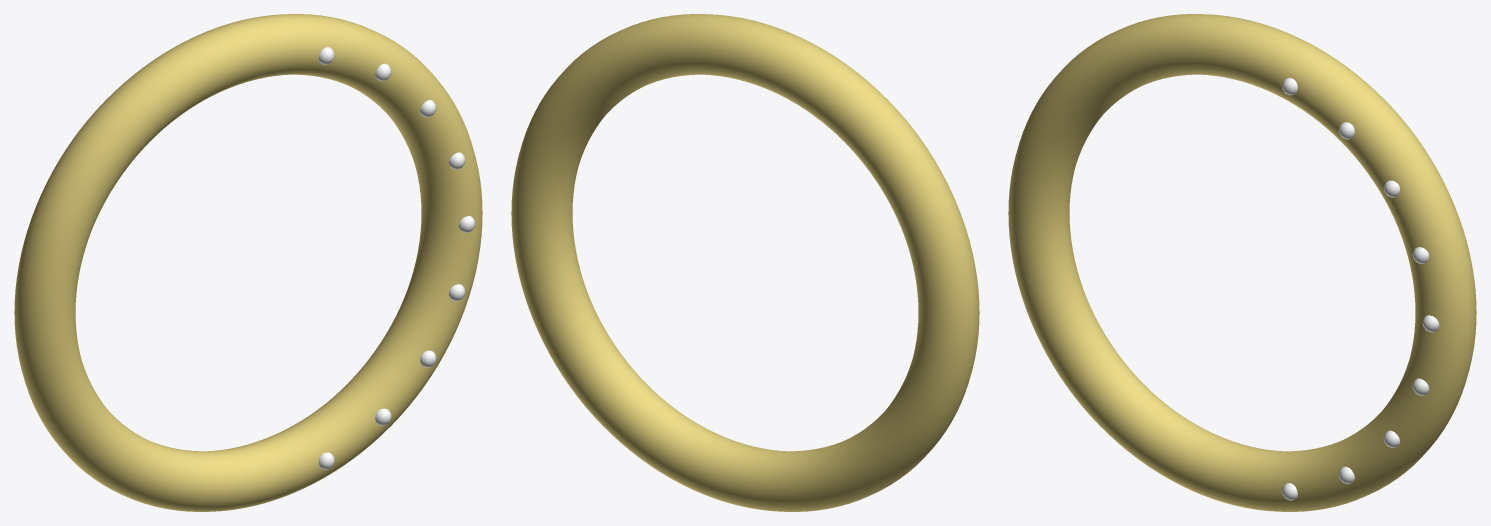
The model's file is bangle.glb.
3 views of the same model, side by side, from view 1: azimuth 30°, elevation 25°; view 2: azimuth 150°, elevation 25°; view 3: azimuth 330°, elevation 25° (orthographic).
Parts seen in each view (by area): view 1: bangle_body_metal, bangle_diamond_stone; view 2: bangle_body_metal; view 3: bangle_body_metal, bangle_diamond_stone.
Boxes of the visible parts, x1,y1,x2,y2 form: bangle_body_metal: (14, 14, 482, 511); bangle_diamond_stone: (319, 47, 475, 469); bangle_body_metal: (511, 14, 979, 511); bangle_body_metal: (1008, 14, 1476, 511); bangle_diamond_stone: (1282, 78, 1439, 500).
Size of the model in its own units: 2.26 by 2.26 by 0.29.
